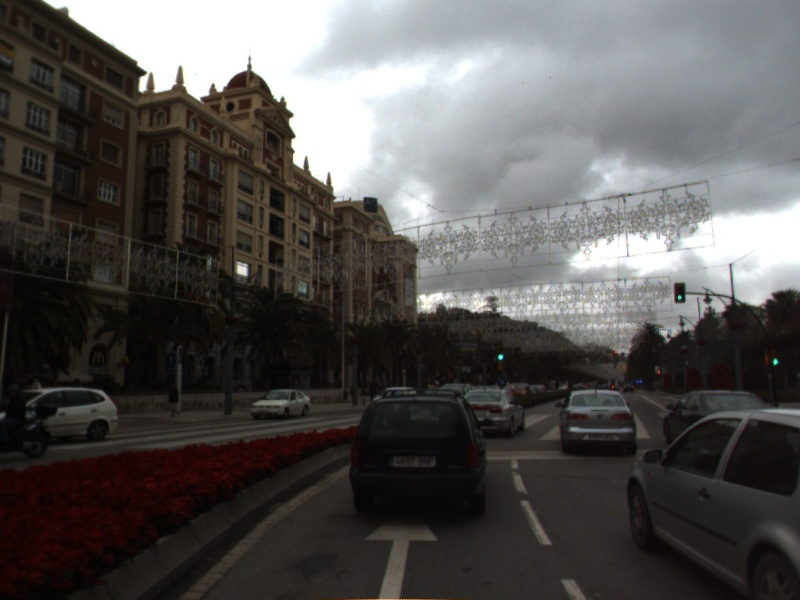STRAIGHT: (358, 512, 440, 600)
